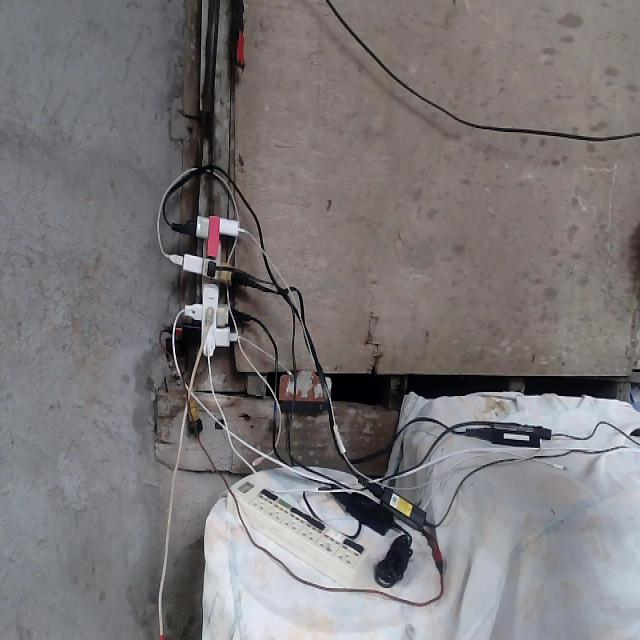-: (169, 210, 245, 358)
